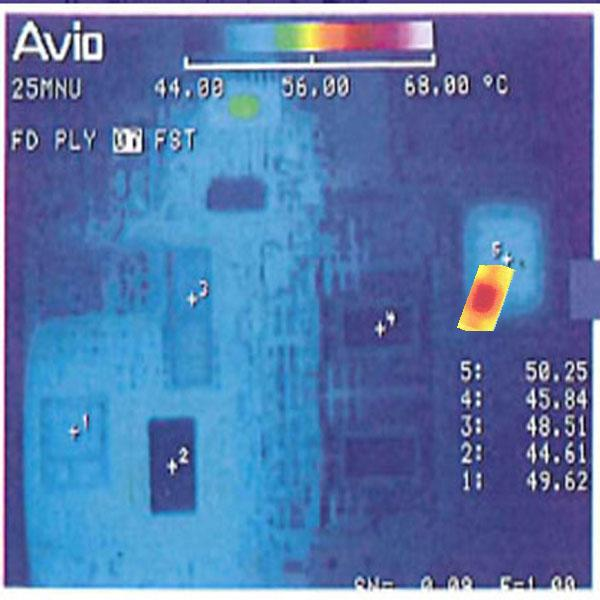componente_T: (457, 263, 516, 332), (288, 23, 359, 53)
